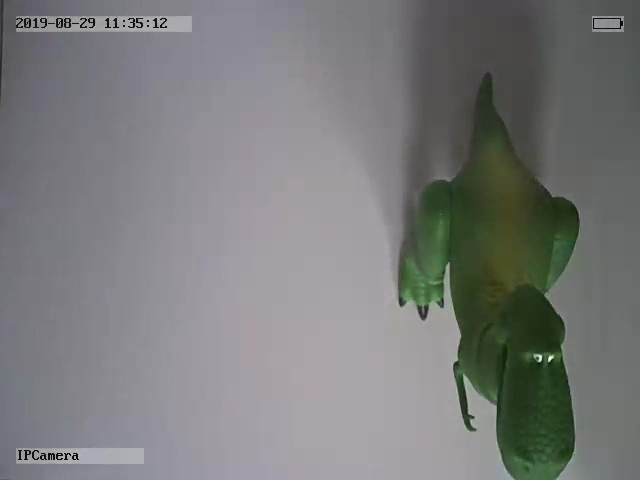rex: (397, 68, 583, 480)
